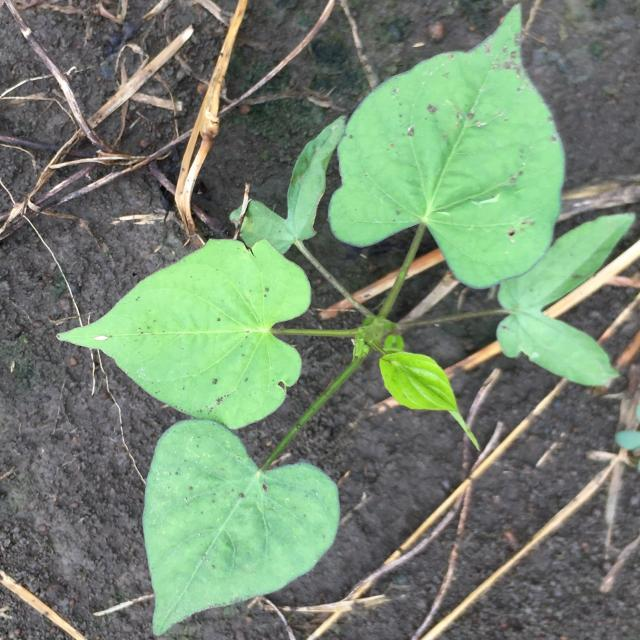MorningGlory: (56, 2, 636, 635)
